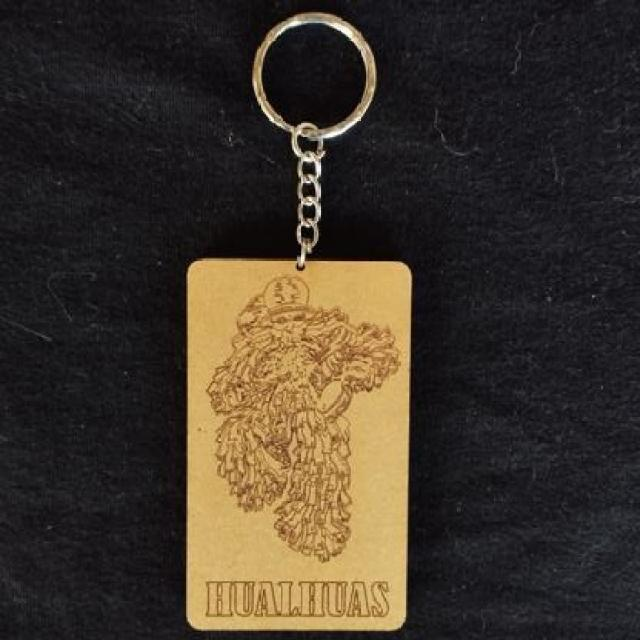Llavero: (205, 273, 400, 562)
